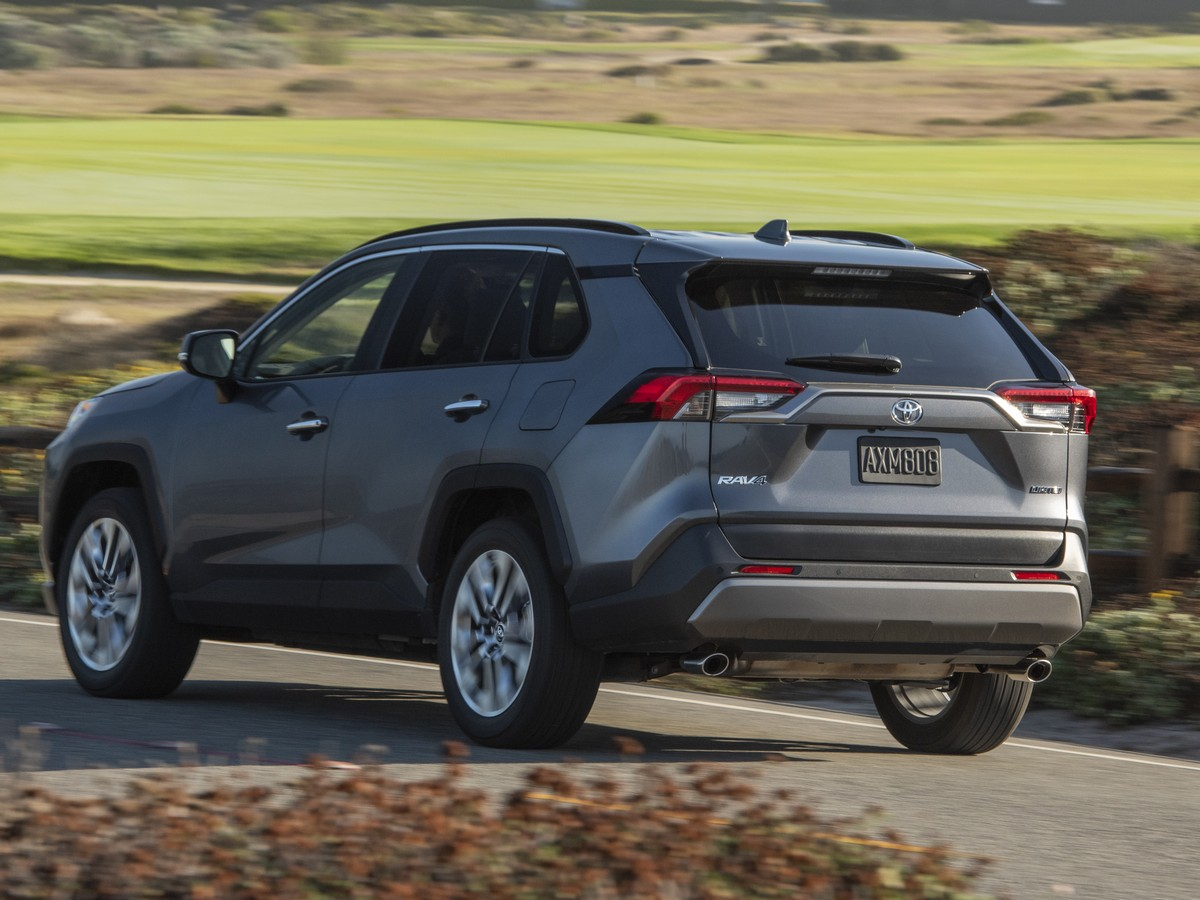Black Toyota RAV-4: (34, 212, 1097, 758)
